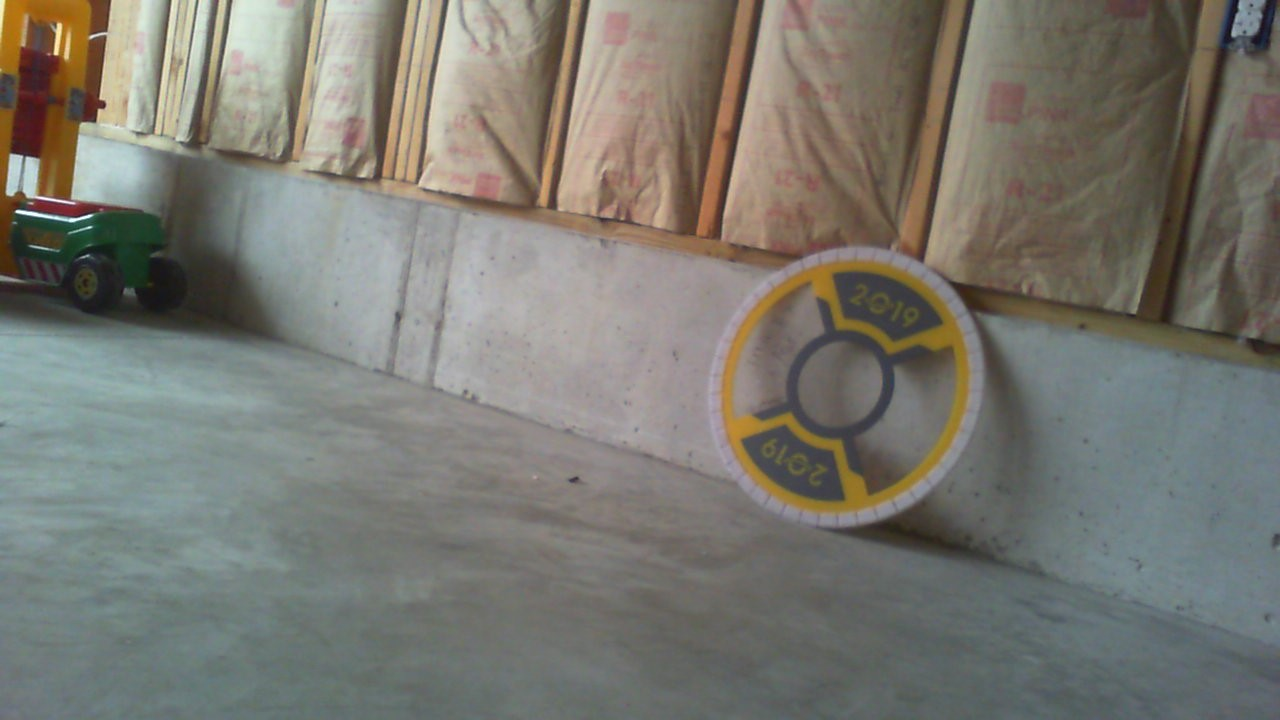Hatch: (706, 244, 985, 526)
